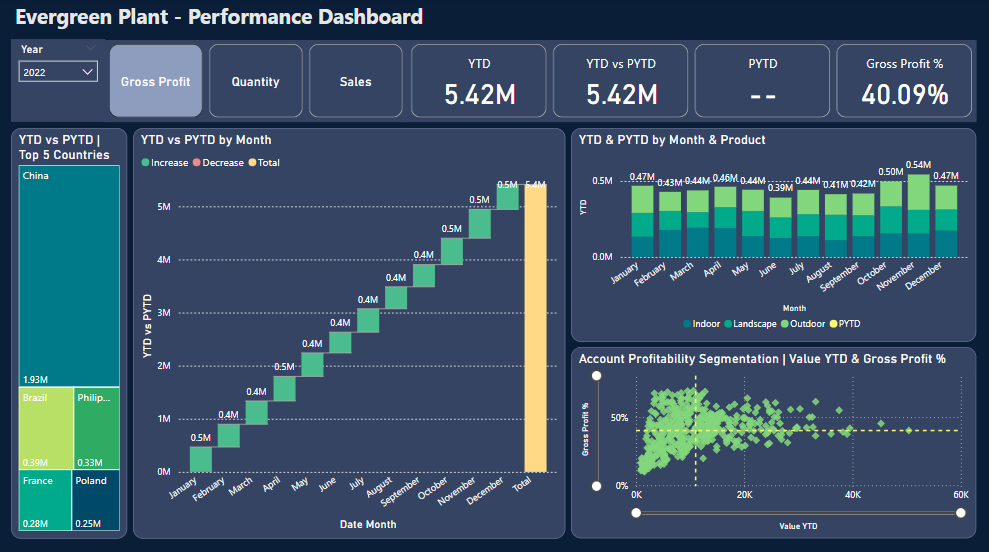

The dashboard page shown, as its layout file describes it:
{"tool":"powerbi","page":{"name":"Performance Report","canvas":[1280,720],"ordinal":0},"visuals":[{"type":"cardVisual","title":"Gross","fields":{"Data":["_Measures.Switch YTD","_Measures.YTD vs PYTD","_Measures.Switch PYTD","_Measures.GP%"]},"box":[527.7,54.2,735.5,105.8],"z":0},{"type":"advancedSlicerVisual","fields":{"Values":["Slicer_Values.Values"]},"box":[138.1,54.2,389.7,105.8],"z":1000},{"type":"slicer","fields":{"Values":["Dim_Date.Date.Variation.Date Hierarchy.Year"]},"box":[16.3,53.5,121.8,106.9],"z":2000},{"type":"waterfallChart","fields":{"Category":["Dim_Date.Date.Variation.Date Hierarchy.Month","Dim_Account.country","Dim_Products.Produt_Type","Dim_Products.Product_Name"],"Y":["_Measures.YTD vs PYTD"]},"box":[174.3,167.2,558.4,530.1],"z":3000},{"type":"lineStackedColumnComboChart","title":"YTD & PYTD by Month & Product","fields":{"Y":["_Measures.Switch YTD"],"Y2":["_Measures.Switch PYTD"],"Category":["Dim_Date.Date.Variation.Date Hierarchy.Month"],"Series":["Dim_Products.Produt_Type"]},"box":[739.8,167.2,523,276.4],"z":4000},{"type":"treemap","title":"YTD vs PYTD | Top 5 Countries","fields":{"Group":["Dim_Account.country"],"Values":["_Measures.YTD vs PYTD"]},"box":[17,167.2,150.2,530.1],"z":5000},{"type":"scatterChart","title":"Account Profitability Segmentation | Value YTD & Gross Profit %","fields":{"X":["_Measures.Switch YTD"],"Category":["Dim_Account.Account"],"Y":["_Measures.GP%"]},"box":[739.8,450.7,523,246.6],"z":6000},{"type":"textbox","box":[16.8,0,610.3,52.9],"z":7000}]}

Visuals, with their boxes in screenshot pixels (x1, y1, x2, y2), scaled from the page's 1280x720 canvas onto the 989x552 screenshot:
"Gross" cardVisual: <box>408,42,976,123</box>
advancedSlicerVisual - Slicer_Values.Values: <box>107,42,408,123</box>
slicer - Dim_Date.Date.Variation.Date Hierarchy.Year: <box>13,41,107,123</box>
waterfallChart - Dim_Date.Date.Variation.Date Hierarchy.Month x Dim_Account.country: <box>135,128,566,535</box>
"YTD & PYTD by Month & Product" lineStackedColumnComboChart: <box>572,128,976,340</box>
"YTD vs PYTD | Top 5 Countries" treemap: <box>13,128,129,535</box>
"Account Profitability Segmentation | Value YTD & Gross Profit %" scatterChart: <box>572,346,976,535</box>
textbox: <box>13,0,485,41</box>
